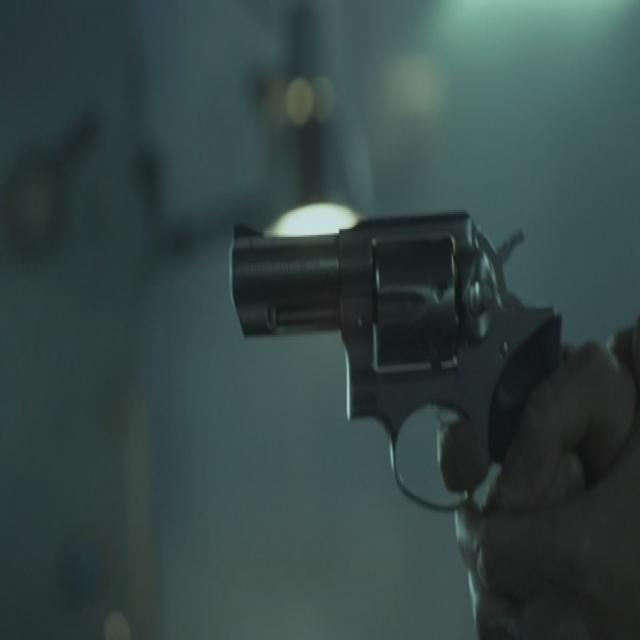weapons: (206, 172, 588, 560)
